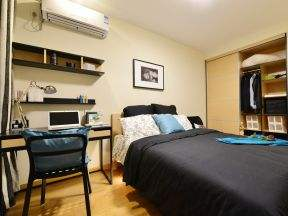床: (116, 128, 286, 210)
枕头: (120, 103, 202, 139)
灯: (13, 76, 59, 130), (46, 3, 111, 40)
